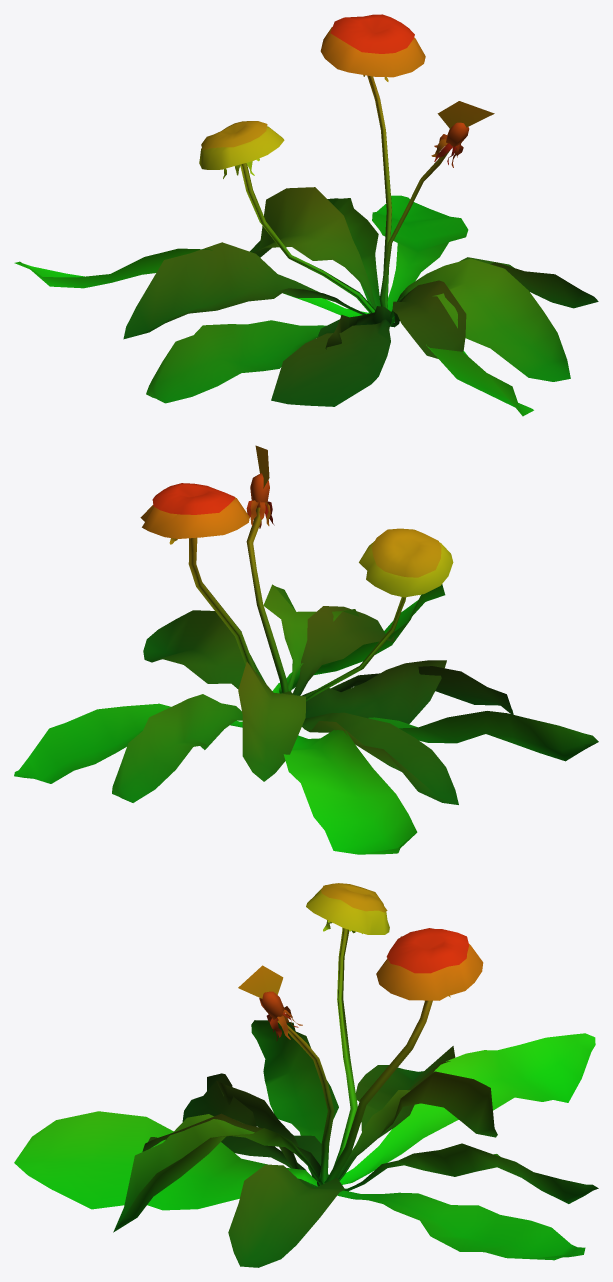
Rendered from SM_OW_Dandelion_b_LOD0.fbx.
3 views of the same model, one above another, from view 1: azimuth 30°, elevation 25°; view 2: azimuth 150°, elevation 25°; view 3: azimuth 270°, elevation 25° (orthographic). The views are drawn at different scales.
Visible parts, largest first — view 1: SM_OW_Dandelion_b_LOD0; view 2: SM_OW_Dandelion_b_LOD0; view 3: SM_OW_Dandelion_b_LOD0.
Part boxes in pixels (x1,y1,x2,y2): SM_OW_Dandelion_b_LOD0: (14,14,598,416); SM_OW_Dandelion_b_LOD0: (14,445,598,854); SM_OW_Dandelion_b_LOD0: (14,883,598,1267).
Bounding box in the file's own units: 0.2019 × 0.1138 × 0.2181.
